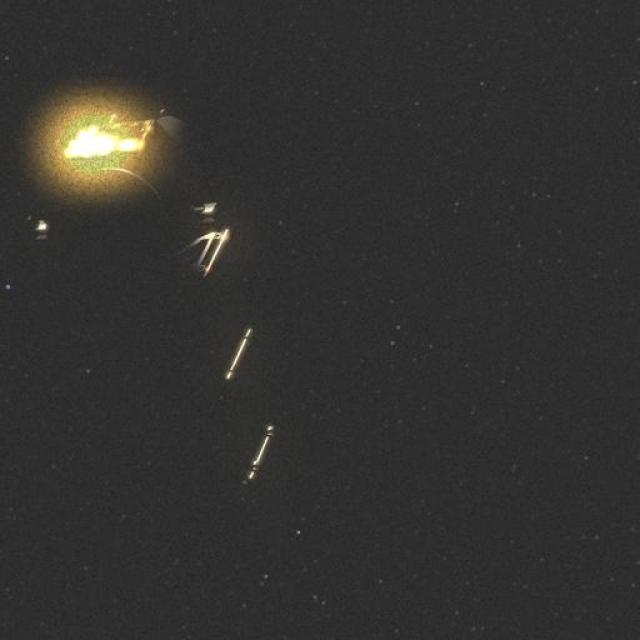earth_observation_sat_1: (34, 87, 236, 277)
